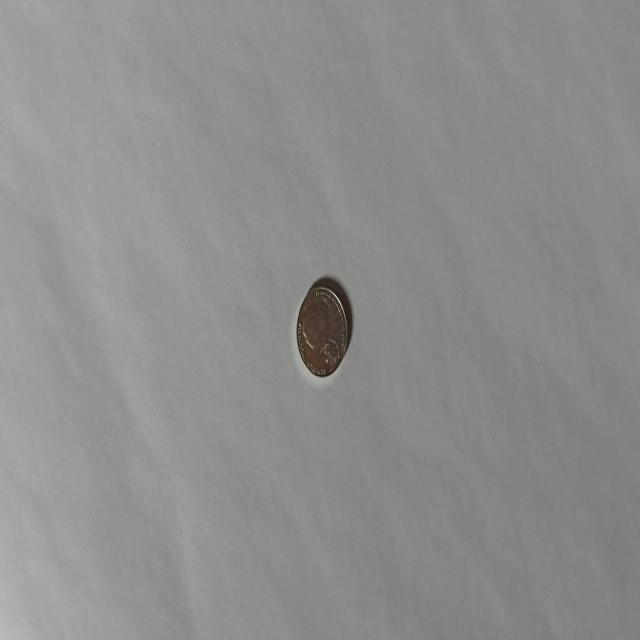seratus rupiah: (296, 282, 348, 378)
